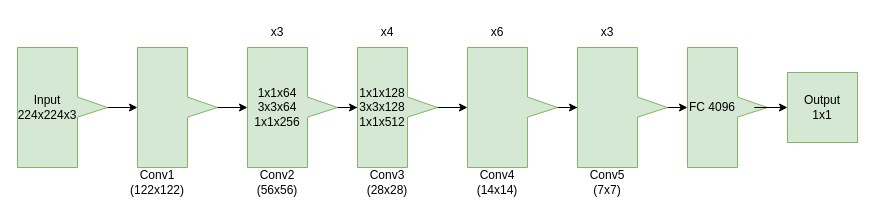
This 875x214 diagram has some shape labels left out. Each missing label, with the box of its shape:
1x1x256 3x3x256 1x1x1024: (466, 46, 558, 168)
1x1x512 3x3x512 1x1x2048: (576, 46, 668, 168)
7x7x64: (136, 46, 218, 168)
